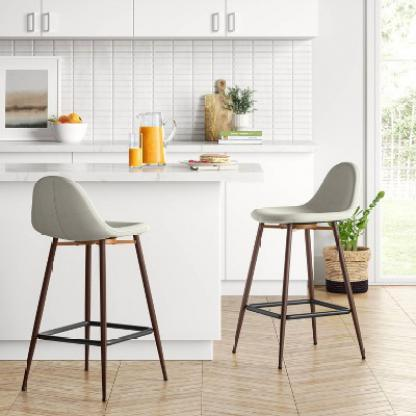chair: (12, 179, 169, 399), (228, 152, 375, 370)
table: (0, 157, 266, 359)
